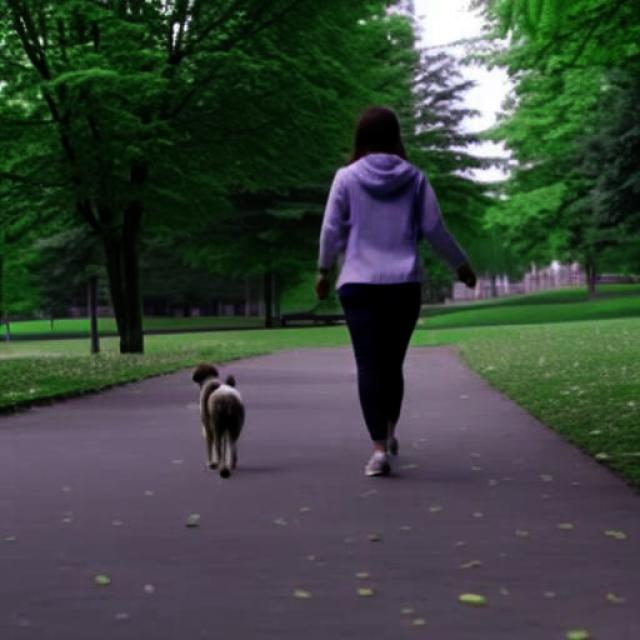Unleashed_Dog: (192, 284, 419, 480)
